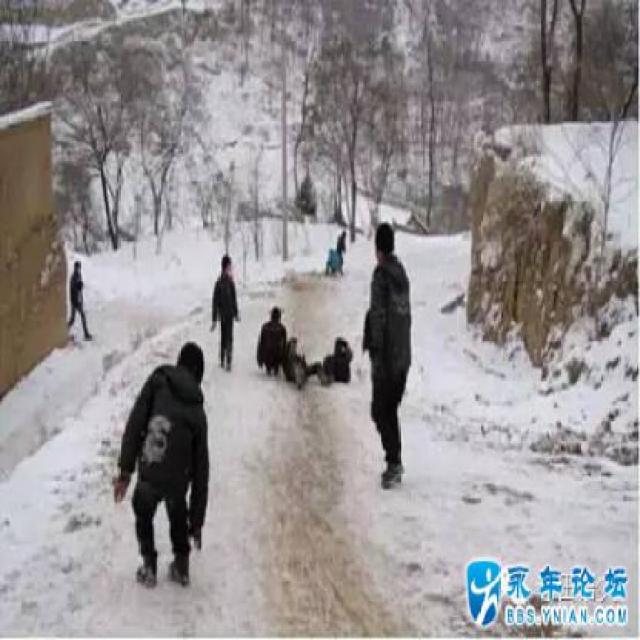fall: (320, 218, 346, 274)
